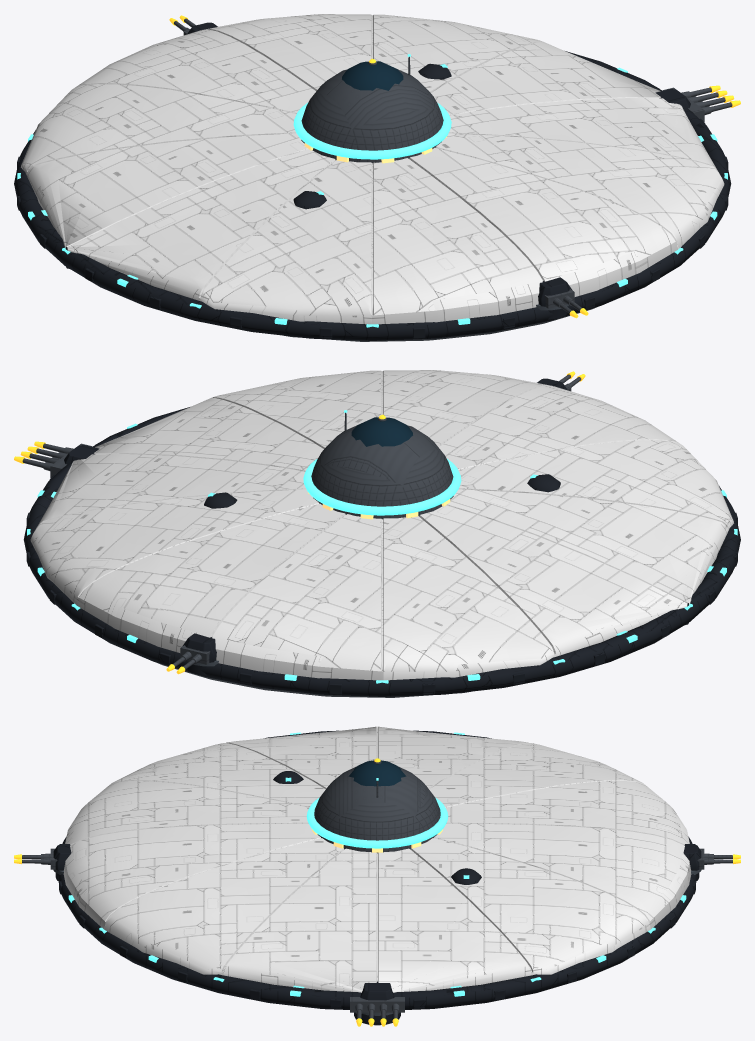
The model's file is saucer_production_v1.glb.
The picture shows the model from 3 angles, top to bottom: view 1: azimuth 30°, elevation 25°; view 2: azimuth 150°, elevation 25°; view 3: azimuth 270°, elevation 25°; orthographic projection. The views are drawn at different scales.
Visible parts, largest first — view 1: LOD0_MOTION_HULL_CORE_Hull, LOD0_MOTION_HULL_CORE_Armor, LOD0_MOTION_HULL_CORE_Mechanical, LOD0_MOTION_HULL_CORE_MechanicalDark, LOD0_MOTION_HULL_CORE_Lights_Cyan, LOD0_MOTION_HULL_CORE_CANOPY; view 2: LOD0_MOTION_HULL_CORE_Hull, LOD0_MOTION_HULL_CORE_Armor, LOD0_MOTION_HULL_CORE_Mechanical, LOD0_MOTION_HULL_CORE_MechanicalDark, LOD0_MOTION_HULL_CORE_Lights_Cyan, LOD0_MOTION_HULL_CORE_CANOPY; view 3: LOD0_MOTION_HULL_CORE_Hull, LOD0_MOTION_HULL_CORE_Armor, LOD0_MOTION_HULL_CORE_Mechanical, LOD0_MOTION_HULL_CORE_MechanicalDark, LOD0_MOTION_HULL_CORE_Lights_Cyan, LOD0_MOTION_HULL_CORE_CANOPY.
Boxes of the visible parts, x1,y1,x2,y2 form: LOD0_MOTION_HULL_CORE_Hull: (21,14,724,324); LOD0_MOTION_HULL_CORE_Armor: (14,22,731,340); LOD0_MOTION_HULL_CORE_Mechanical: (67,18,732,341); LOD0_MOTION_HULL_CORE_MechanicalDark: (27,15,716,315); LOD0_MOTION_HULL_CORE_Lights_Cyan: (17,54,727,327); LOD0_MOTION_HULL_CORE_CANOPY: (342,61,403,90); LOD0_MOTION_HULL_CORE_Hull: (30,370,733,680); LOD0_MOTION_HULL_CORE_Armor: (23,378,740,696); LOD0_MOTION_HULL_CORE_Mechanical: (22,374,687,697); LOD0_MOTION_HULL_CORE_MechanicalDark: (38,371,727,671); LOD0_MOTION_HULL_CORE_Lights_Cyan: (27,410,737,683); LOD0_MOTION_HULL_CORE_CANOPY: (351,417,412,446); LOD0_MOTION_HULL_CORE_Hull: (63,726,691,992); LOD0_MOTION_HULL_CORE_Armor: (53,730,701,1025); LOD0_MOTION_HULL_CORE_Mechanical: (22,766,732,1018); LOD0_MOTION_HULL_CORE_MechanicalDark: (70,726,684,982); LOD0_MOTION_HULL_CORE_Lights_Cyan: (68,732,686,996); LOD0_MOTION_HULL_CORE_CANOPY: (348,760,406,786).
Size of what is drawn, in the model's own units: 20.96 by 7.56 by 22.06.
Materials: 12 (5 with a texture image).
